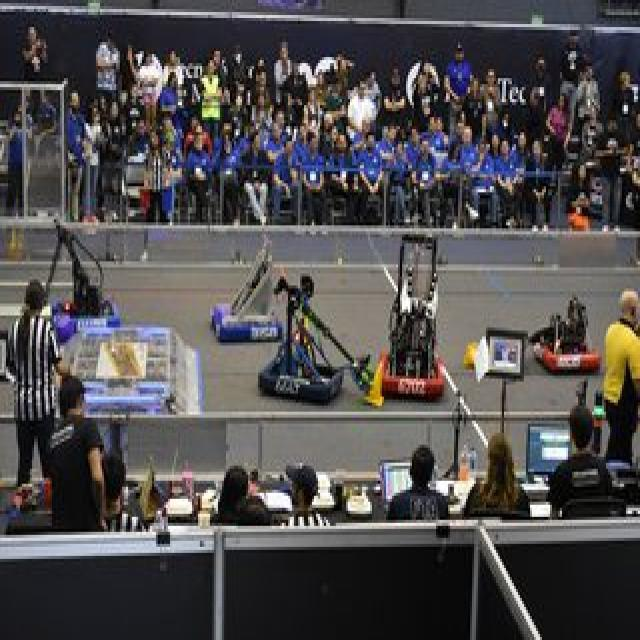robot: (381, 228, 465, 406), (23, 221, 130, 346), (260, 286, 350, 428), (195, 238, 291, 342), (534, 294, 600, 398)
